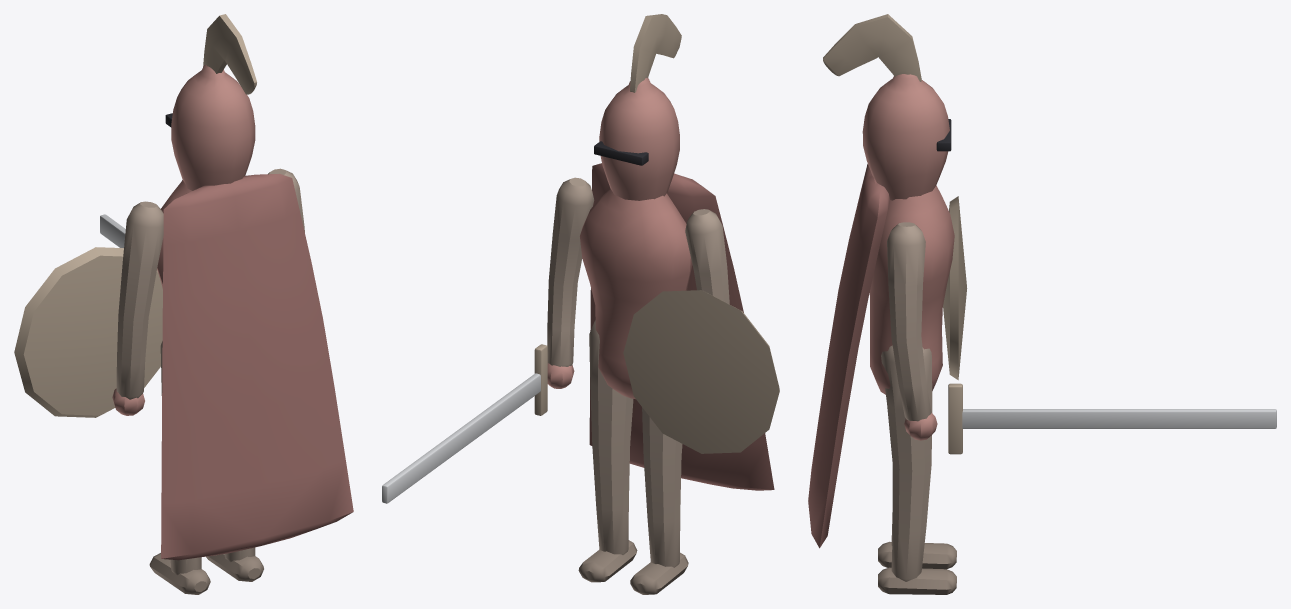
Rendered from red_warrior.gltf.
3 renders of one model, left to right at view 1: azimuth 30°, elevation 25°; view 2: azimuth 150°, elevation 25°; view 3: azimuth 270°, elevation 25°, orthographic. The views are drawn at different scales.
Visible parts, largest first — view 1: Body, ArmL, SwingA, SwingB, ArmR; view 2: Body, ArmL, ArmR, SwingB, SwingA; view 3: Body, ArmR, SwingB, ArmL, SwingA.
Part boxes in pixels (box(x1,y1,x2,y2)): Body: box(157, 14, 353, 560); ArmL: box(14, 201, 163, 417); SwingA: box(149, 341, 210, 594); SwingB: box(206, 547, 263, 581); ArmR: box(100, 168, 304, 247); Body: box(580, 14, 774, 490); ArmL: box(623, 209, 779, 453); ArmR: box(382, 177, 594, 503); SwingB: box(578, 320, 637, 582); SwingA: box(630, 407, 688, 594); Body: box(808, 14, 954, 548); ArmR: box(887, 222, 1276, 454); SwingB: box(878, 345, 956, 594); ArmL: box(943, 196, 967, 380); SwingA: box(878, 508, 956, 569).
Bounding box in the file's own units: 1.05 × 2.15 × 1.62.
